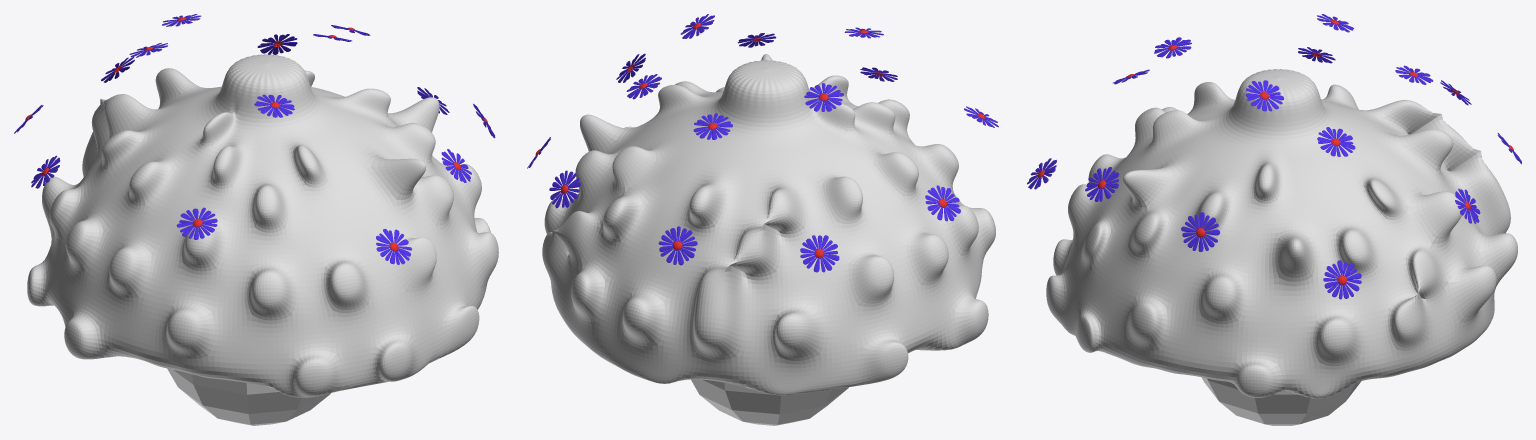
The model's file is Zinnia bule.fbx.
The picture shows the model from 3 angles, left to right: view 1: azimuth 30°, elevation 25°; view 2: azimuth 150°, elevation 25°; view 3: azimuth 270°, elevation 25°; orthographic projection. The views are drawn at different scales.
Parts seen in each view (by area): view 1: ทรงกลม, ทรงกลม.002, ระนาบ.005, ระนาบ.004, ระนาบ.003, ระนาบ.002, ระนาบ.006, ระนาบ.009; view 2: ทรงกลม, ทรงกลม.002, ระนาบ.007, ระนาบ.014, ระนาบ.009, ระนาบ.006, ระนาบ.008, ระนาบ.001, ระนาบ.012; view 3: ทรงกลม, ทรงกลม.002, ระนาบ.010, ระนาบ.013, ระนาบ.011, ระนาบ.002, ระนาบ.012, ระนาบ.006, ระนาบ.003.
Part boxes in pixels (box(x1,y1,x2,y2)): ทรงกลม: box(27, 54, 498, 397); ทรงกลม.002: box(167, 368, 330, 425); ระนาบ.005: box(176, 207, 217, 239); ระนาบ.004: box(376, 229, 411, 264); ระนาบ.003: box(254, 94, 294, 117); ระนาบ.002: box(441, 149, 471, 182); ระนาบ.006: box(257, 34, 297, 54); ระนาบ.009: box(31, 155, 60, 188); ทรงกลม: box(542, 54, 995, 395); ทรงกลม.002: box(691, 379, 848, 425); ระนาบ.007: box(800, 235, 839, 272); ระนาบ.014: box(658, 226, 697, 265); ระนาบ.009: box(925, 185, 960, 221); ระนาบ.006: box(549, 170, 580, 208); ระนาบ.008: box(804, 83, 843, 111); ระนาบ.001: box(693, 113, 732, 139); ระนาบ.012: box(626, 74, 661, 99); ทรงกลม: box(1046, 69, 1517, 398); ทรงกลม.002: box(1201, 377, 1360, 425); ระนาบ.010: box(1181, 212, 1220, 251); ระนาบ.013: box(1323, 260, 1361, 299); ระนาบ.011: box(1245, 80, 1283, 111); ระนาบ.002: box(1085, 167, 1119, 201); ระนาบ.012: box(1317, 127, 1355, 156); ระนาบ.006: box(1455, 188, 1480, 223); ระนาบ.003: box(1154, 37, 1191, 58).
Size of the model in its own units: 217 by 187 by 226.
